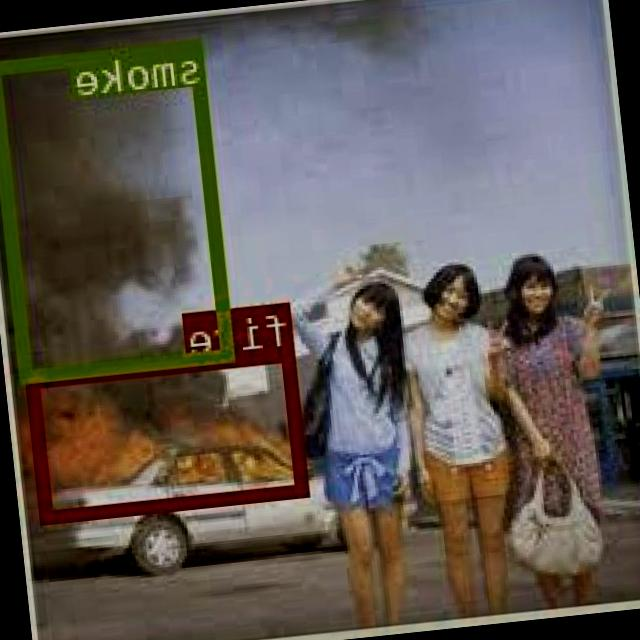fire: (28, 344, 310, 520)
smoke: (0, 36, 236, 379)
